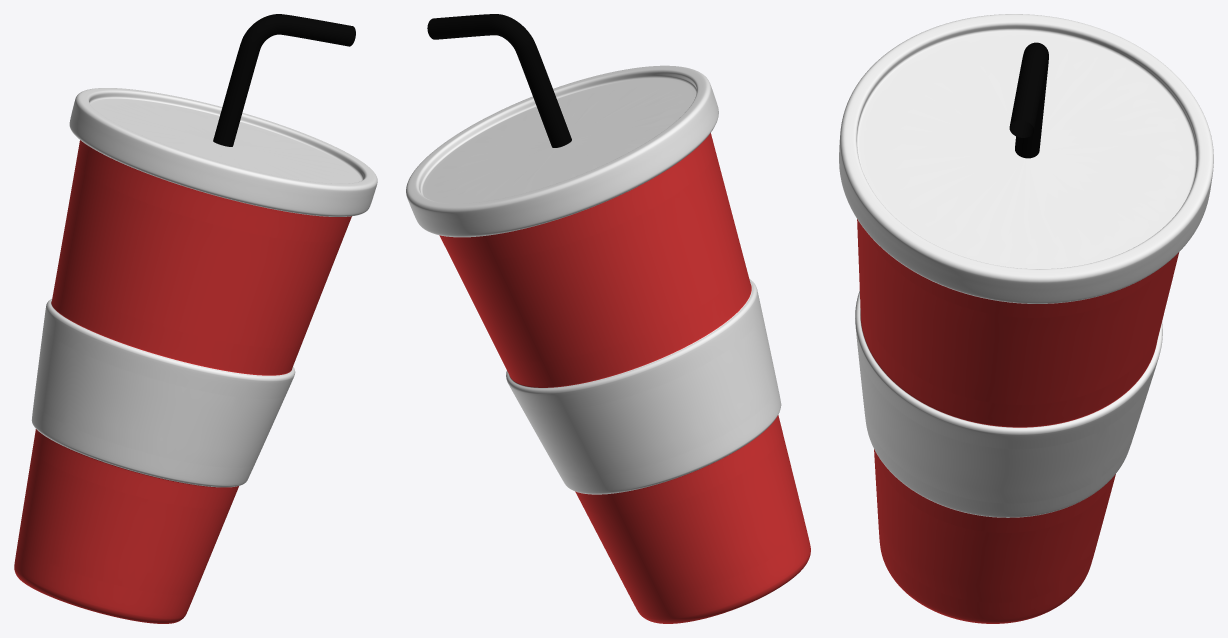
File: juice_cup.glb
3 views of the same model, side by side, from view 1: azimuth 30°, elevation 25°; view 2: azimuth 150°, elevation 25°; view 3: azimuth 270°, elevation 25° (orthographic). The views are drawn at different scales.
Parts seen in each view (by area): view 1: Cylinder.015; view 2: Cylinder.015; view 3: Cylinder.015.
Boxes of the visible parts, bbox=[...] form: Cylinder.015: bbox=[14, 14, 377, 623]; Cylinder.015: bbox=[406, 14, 810, 623]; Cylinder.015: bbox=[839, 14, 1213, 623].
Size of the model in its own units: 1.76 by 2.67 by 1.39.
